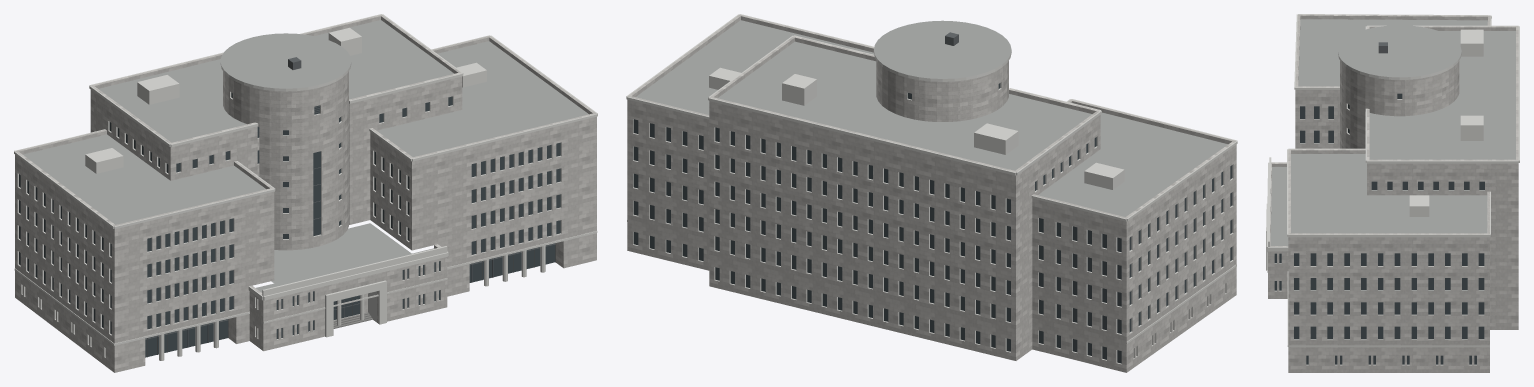
3 renders of one model, left to right at view 1: azimuth 30°, elevation 25°; view 2: azimuth 150°, elevation 25°; view 3: azimuth 270°, elevation 25°, orthographic. The views are drawn at different scales.
Visible parts, largest first — view 1: paiknamLibrary__stone, paiknamLibrary__roof, paiknamLibrary__trim, paiknamLibrary__glass, paiknamLibrary__frame; view 2: paiknamLibrary__stone, paiknamLibrary__roof, paiknamLibrary__trim, paiknamLibrary__glass; view 3: paiknamLibrary__stone, paiknamLibrary__roof, paiknamLibrary__trim, paiknamLibrary__glass.
Part boxes in pixels (left/top/right/bottom): paiknamLibrary__stone: left=15, top=14, right=596, bottom=372; paiknamLibrary__roof: left=23, top=20, right=588, bottom=292; paiknamLibrary__trim: left=14, top=14, right=597, bottom=360; paiknamLibrary__glass: left=19, top=92, right=560, bottom=357; paiknamLibrary__frame: left=145, top=57, right=555, bottom=357; paiknamLibrary__stone: left=627, top=14, right=1236, bottom=372; paiknamLibrary__roof: left=636, top=20, right=1227, bottom=216; paiknamLibrary__trim: left=626, top=14, right=1237, bottom=364; paiknamLibrary__glass: left=633, top=83, right=1232, bottom=363; paiknamLibrary__stone: left=1268, top=14, right=1518, bottom=372; paiknamLibrary__roof: left=1270, top=19, right=1515, bottom=245; paiknamLibrary__trim: left=1266, top=14, right=1519, bottom=365; paiknamLibrary__glass: left=1274, top=93, right=1484, bottom=364.
Bounding box in the file's own units: 79.49 × 35.65 × 38.56.
6 materials, 1 textured.
